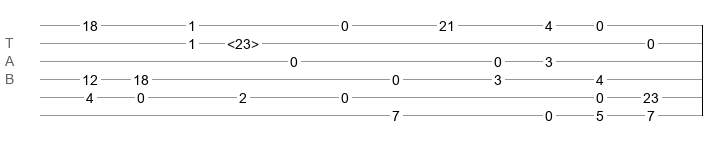0: (137, 90, 145, 100), (290, 54, 298, 64), (341, 18, 349, 28), (341, 90, 349, 100), (392, 72, 400, 82), (494, 54, 502, 64), (545, 108, 553, 118), (596, 90, 604, 100), (596, 18, 604, 28), (647, 36, 655, 46)
1: (188, 36, 196, 46), (188, 18, 196, 28)
12: (82, 72, 98, 82)
18: (82, 18, 98, 28), (133, 72, 149, 82)
2: (239, 90, 247, 100)
21: (439, 18, 455, 28)
23: (643, 90, 659, 100)
3: (494, 72, 502, 82), (545, 54, 553, 64)
4: (86, 90, 94, 100), (545, 18, 553, 28), (596, 72, 604, 82)
5: (596, 108, 604, 118)
7: (392, 108, 400, 118), (647, 108, 655, 118)
harmonic: (227, 36, 259, 46)
